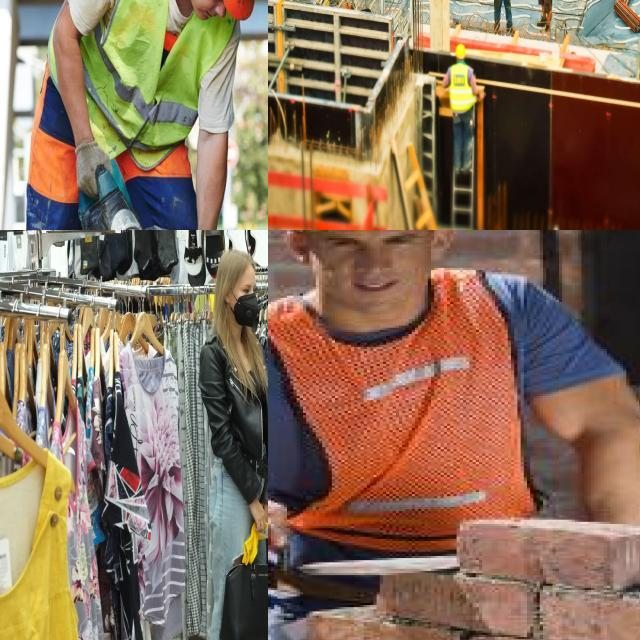No_Ear-Protection: (281, 230, 313, 263), (429, 230, 454, 262)
No_Glasses: (318, 230, 427, 250)
face_nomask: (313, 260, 430, 313), (189, 0, 231, 35)
hand_glove: (70, 142, 117, 199)
head_helmet: (456, 46, 466, 58)
person: (0, 0, 259, 230), (442, 46, 479, 172), (488, 0, 517, 28), (538, 0, 558, 25)
vest: (54, 0, 236, 177), (449, 67, 474, 107)
